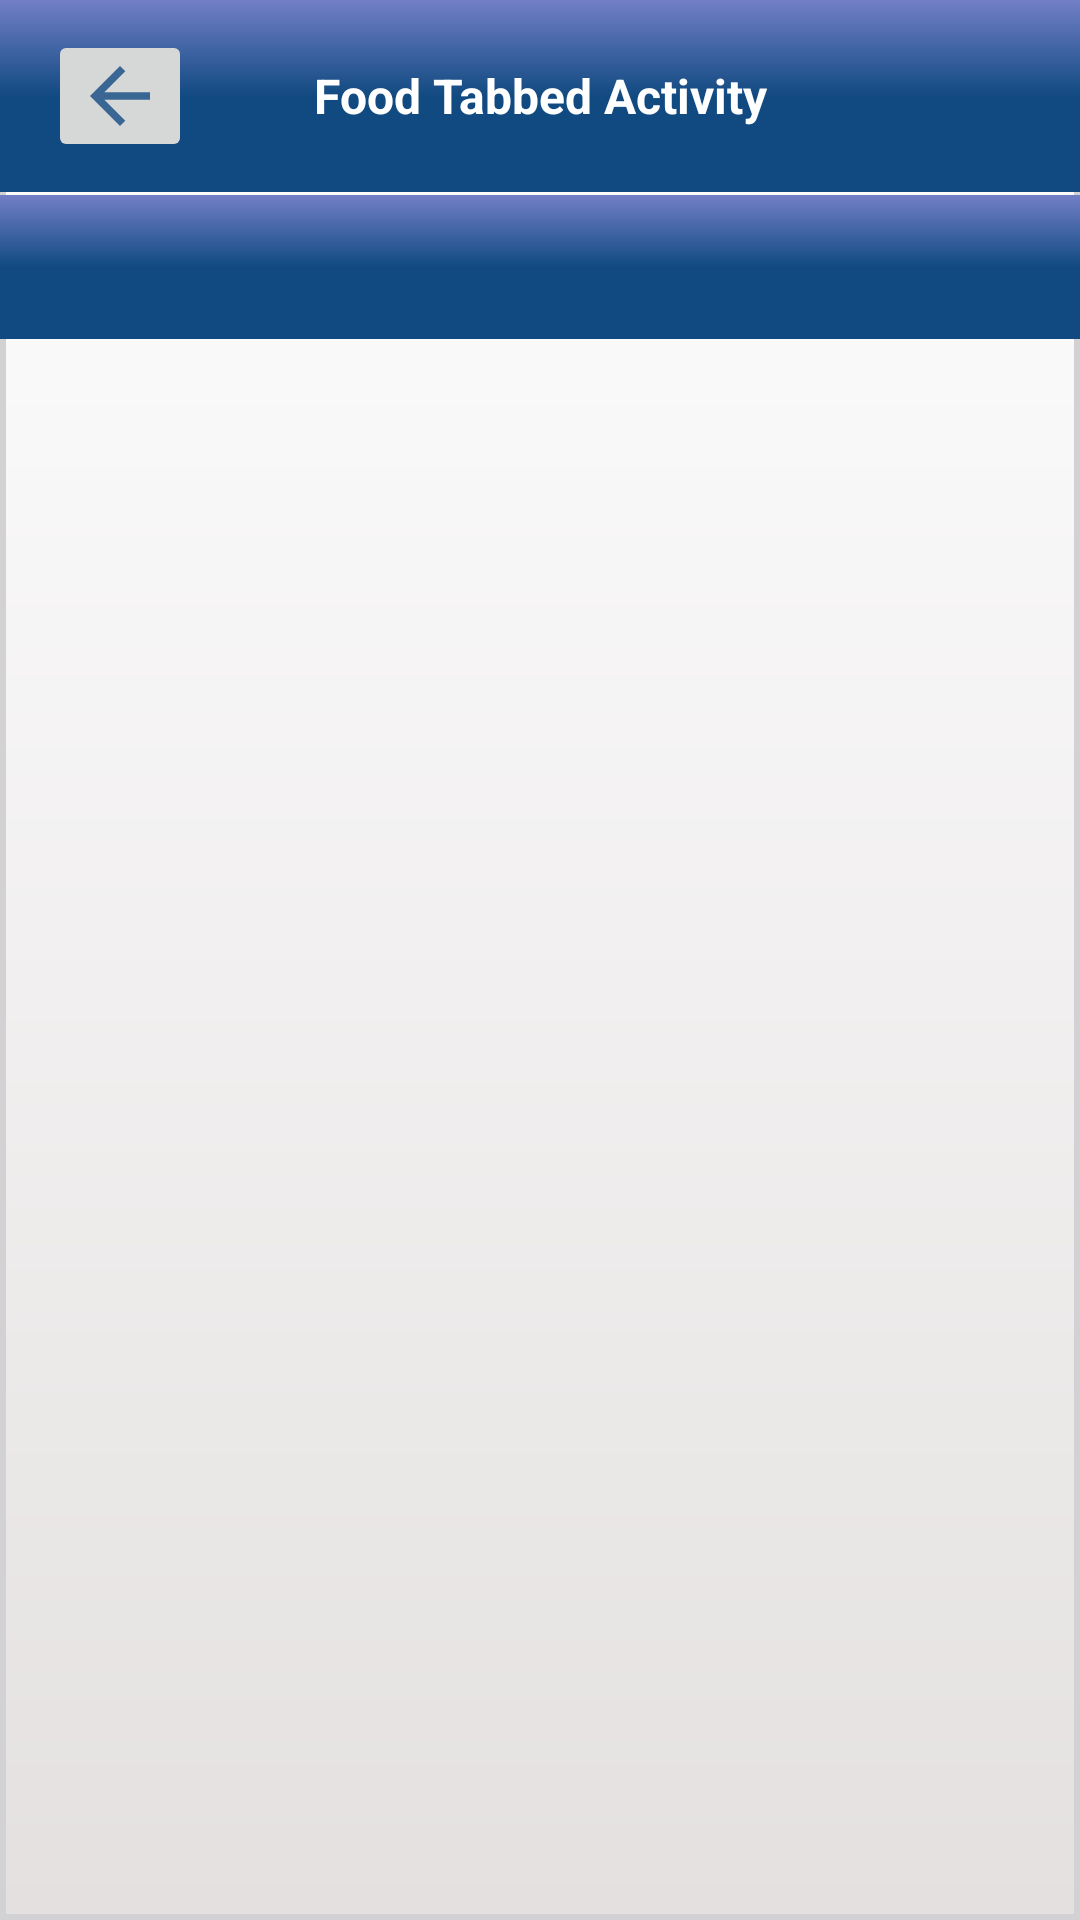

Icon click points for this 1080x1920 phone screenshot, format [x,y]:
back arrow: [120,96]
